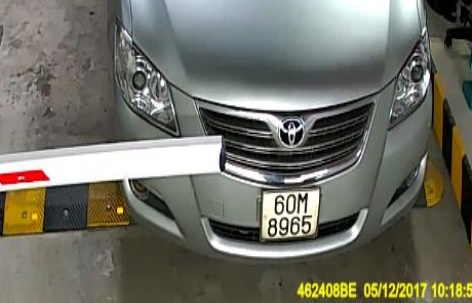plate: (256, 181, 320, 237)
